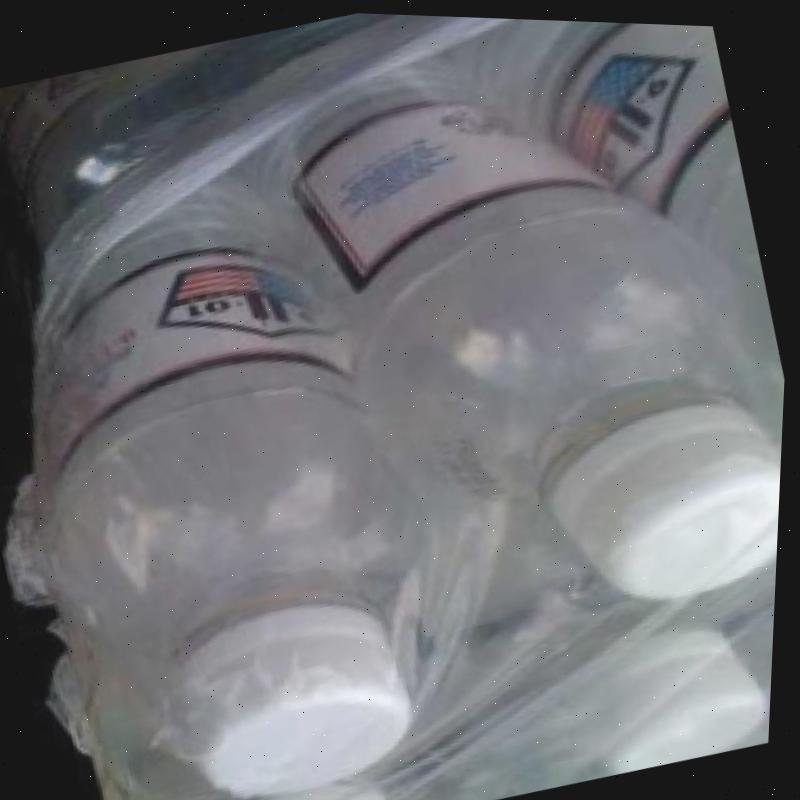botella: (223, 7, 800, 671), (0, 142, 488, 800), (413, 12, 777, 350), (540, 592, 780, 785), (212, 761, 402, 800)
